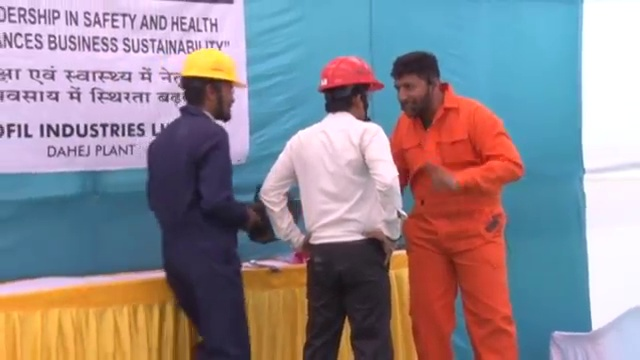helmet: (180, 47, 248, 91), (315, 53, 385, 94)
helmet_off: (392, 52, 445, 117)
helmet_on: (180, 46, 248, 122), (314, 53, 386, 123)
person: (260, 52, 404, 360), (384, 54, 527, 359), (142, 45, 263, 360)
